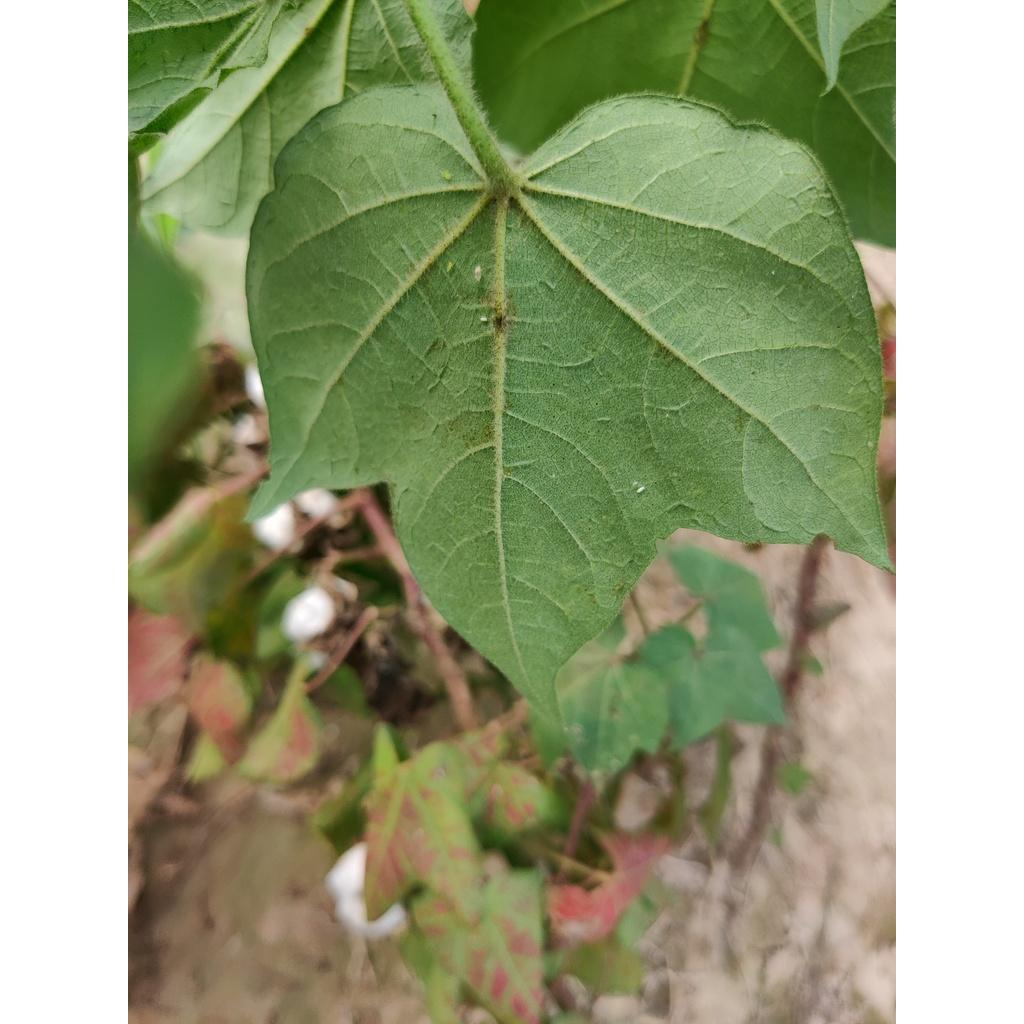adult: (474, 265, 482, 281), (479, 315, 488, 322), (637, 487, 645, 494), (631, 481, 639, 488)
